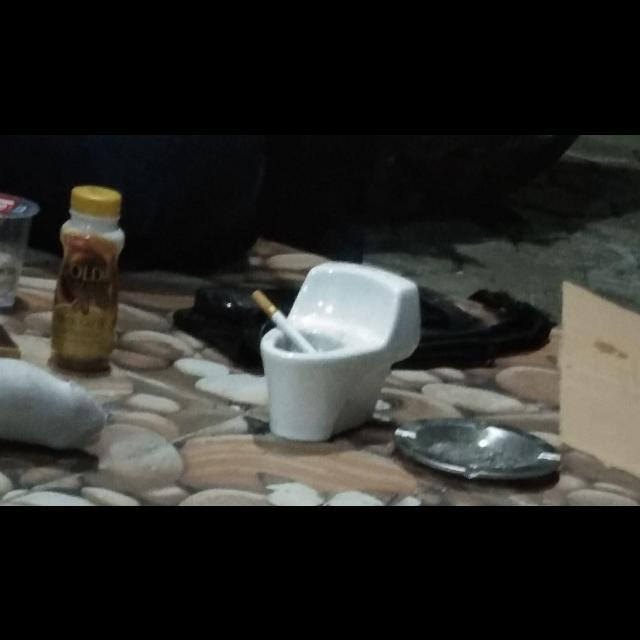rokok: (252, 287, 316, 353)
